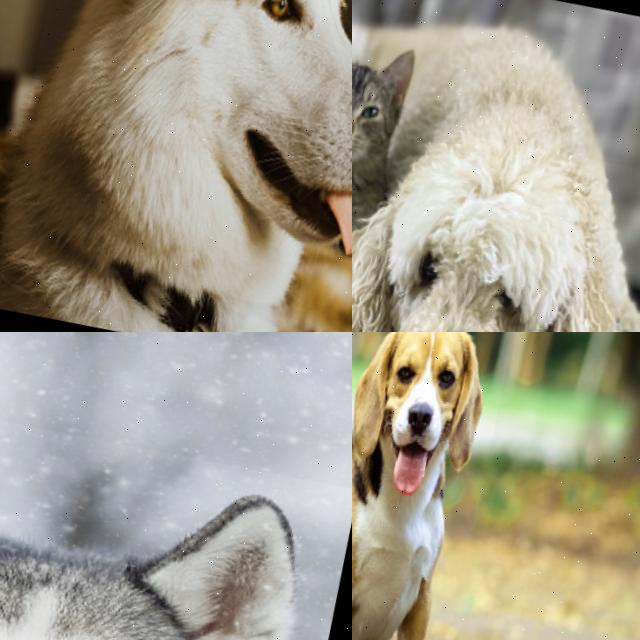beagle: (352, 332, 520, 557)
husky: (0, 0, 352, 332), (0, 363, 352, 640)
poodle: (352, 102, 640, 332)
